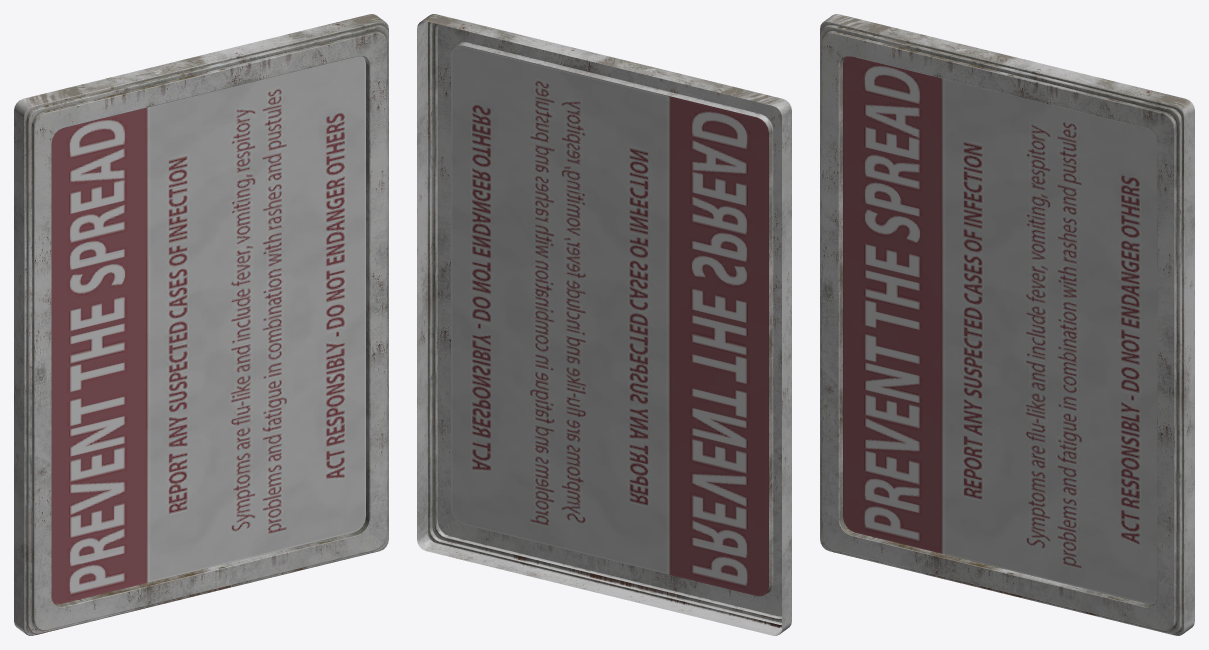
The model's file is SM_Billboard03.glb.
3 views of the same model, side by side, from view 1: azimuth 30°, elevation 25°; view 2: azimuth 150°, elevation 25°; view 3: azimuth 330°, elevation 25° (orthographic).
Parts seen in each view (by area): view 1: SM_Billboard03; view 2: SM_Billboard03; view 3: SM_Billboard03.
Part boxes in pixels (x1=…): SM_Billboard03: x1=14, y1=14, x2=388, y2=635; SM_Billboard03: x1=417, y1=14, x2=791, y2=635; SM_Billboard03: x1=820, y1=14, x2=1194, y2=635.
Bounding box in the file's own units: 1.55 × 2.15 × 0.105.
Materials: 2 (2 with a texture image).
